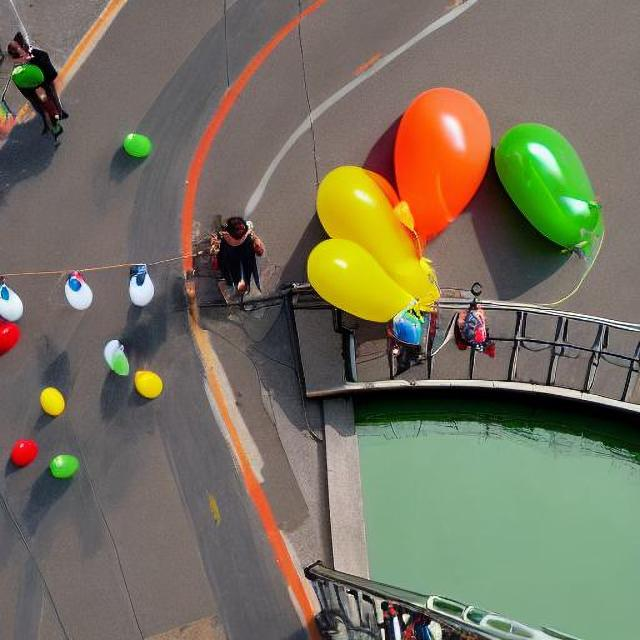balloon: (304, 78, 499, 334), (491, 109, 611, 258), (2, 276, 31, 358), (121, 264, 170, 311), (58, 272, 109, 311), (92, 331, 130, 382), (6, 426, 38, 475), (33, 381, 68, 422), (116, 130, 152, 164), (46, 450, 78, 488), (129, 366, 163, 401)
